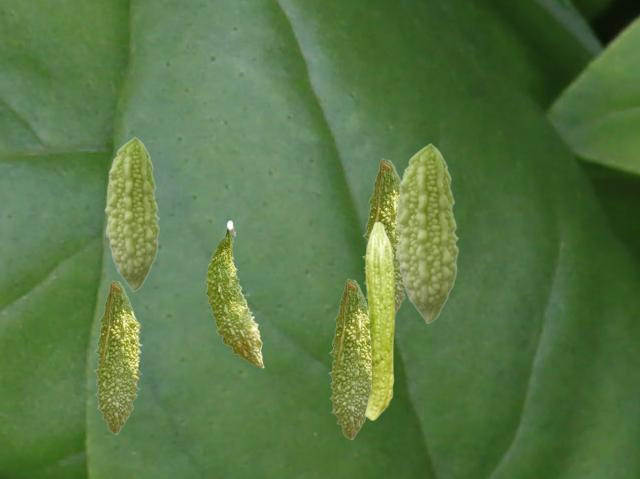ampalaya: (394, 143, 459, 324), (203, 220, 264, 368), (104, 136, 160, 292), (93, 280, 143, 435), (361, 158, 405, 313), (328, 278, 370, 440), (364, 221, 395, 421)
